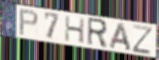7: (44, 11, 61, 41)
A: (108, 22, 133, 53)
H: (64, 14, 86, 45)
P: (18, 9, 40, 37)
R: (86, 17, 108, 50)
Z: (132, 23, 155, 56)
